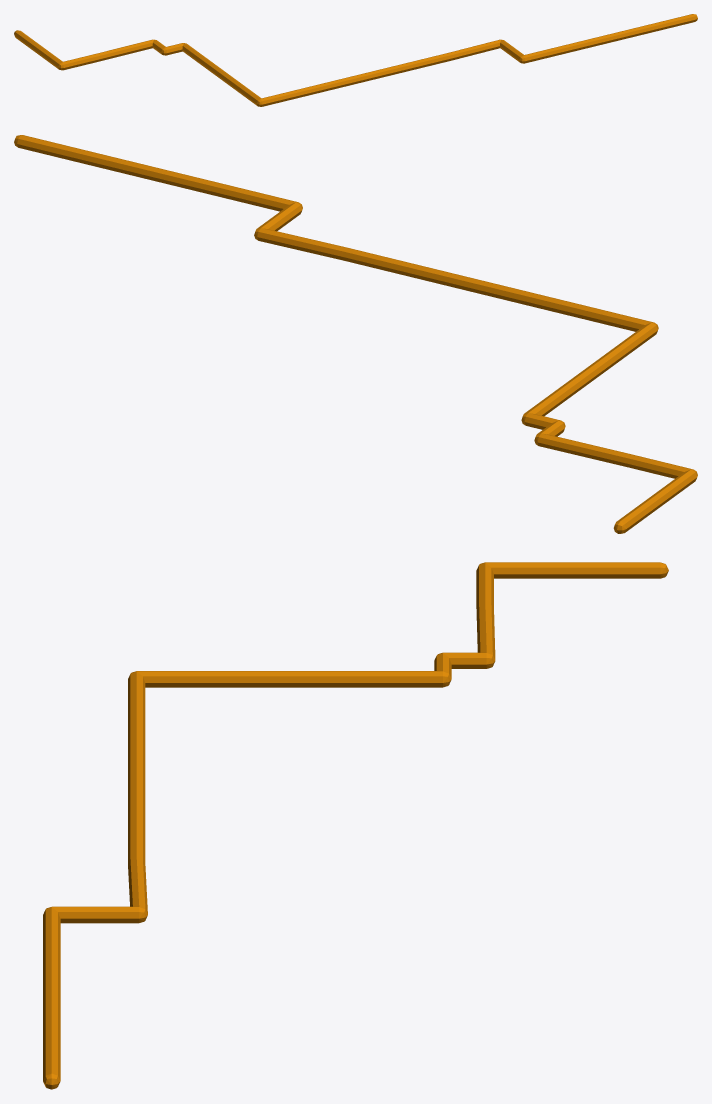
3 renders of one model, top to bottom at view 1: azimuth 30°, elevation 25°; view 2: azimuth 150°, elevation 25°; view 3: azimuth 270°, elevation 25°, orthographic. The views are drawn at different scales.
Bounding box in the file's own units: 1401 × 20 × 715.
